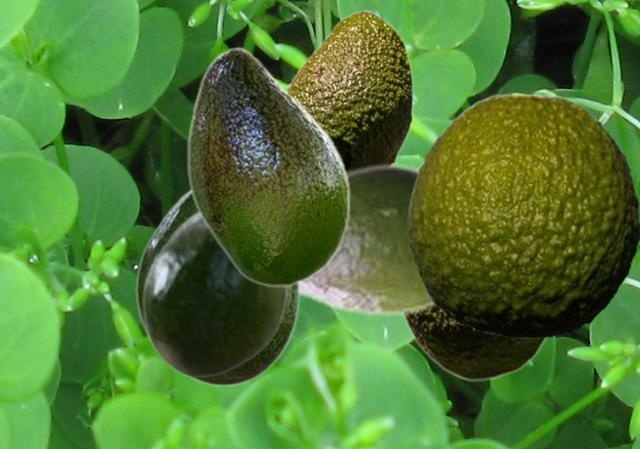avocado: (407, 93, 638, 337), (187, 46, 350, 286), (135, 187, 299, 386), (401, 162, 549, 380), (141, 209, 287, 377), (300, 162, 435, 317), (287, 10, 412, 168)
